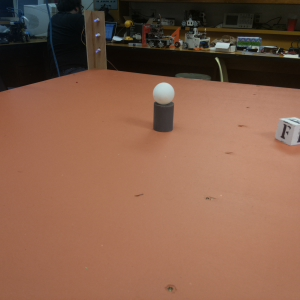blockF: (276, 116, 300, 149)
corner: (85, 11, 111, 70)
obstacle: (151, 82, 178, 133)
